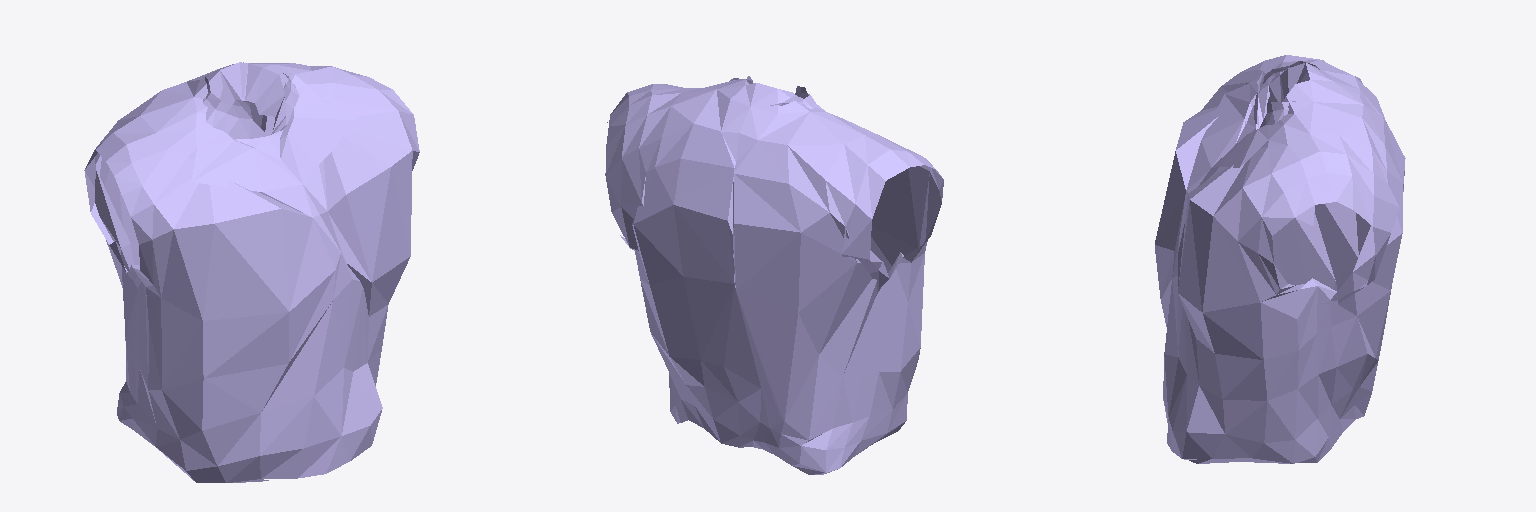
Rendered from shangyi3.obj.
3 renders of one model, left to right at view 1: azimuth 30°, elevation 25°; view 2: azimuth 150°, elevation 25°; view 3: azimuth 270°, elevation 25°, orthographic.
Visible parts, largest first — view 1: file; view 2: file; view 3: file.
Boxes of the visible parts, x1=… form: file: x1=84, y1=62, x2=419, y2=482; file: x1=605, y1=76, x2=943, y2=474; file: x1=1155, y1=55, x2=1405, y2=463.
Size of the model in its own units: 1.99 by 2.31 by 1.43.